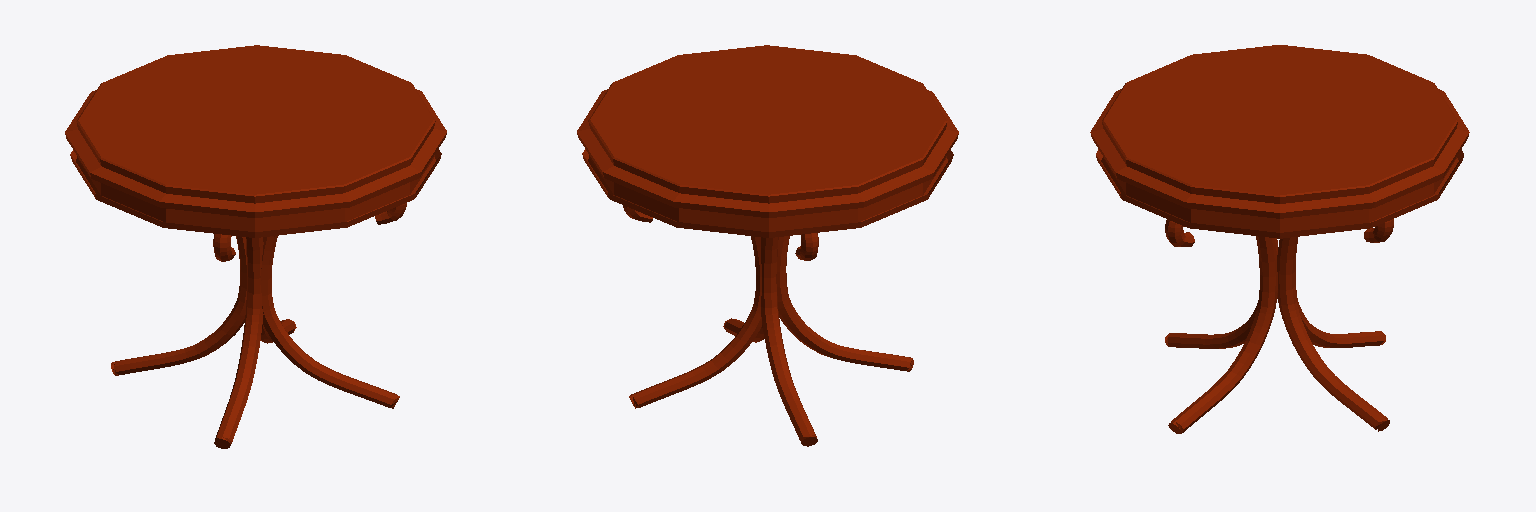
File: roundTable.obj
3 renders of one model, left to right at view 1: azimuth 30°, elevation 25°; view 2: azimuth 150°, elevation 25°; view 3: azimuth 270°, elevation 25°, orthographic.
Visible parts, largest first — view 1: PolyMesh_1, Tube_5, Tube_5_2, Tube_5_1; view 2: PolyMesh_1, Tube_5_1, Tube_5_3, Tube_5; view 3: PolyMesh_1, Tube_5_2, Tube_5_3, Tube_5, Tube_5_1.
Boxes of the visible parts, <box> form: PolyMesh_1: <box>65,45,446,237</box>; Tube_5: <box>213,234,263,448</box>; Tube_5_2: <box>261,203,406,408</box>; Tube_5_1: <box>111,236,246,375</box>; PolyMesh_1: <box>577,45,958,237</box>; Tube_5_1: <box>761,233,818,446</box>; Tube_5_3: <box>623,205,761,408</box>; Tube_5: <box>777,236,913,371</box>; PolyMesh_1: <box>1090,45,1469,238</box>; Tube_5_2: <box>1165,219,1277,433</box>; Tube_5_3: <box>1277,219,1393,431</box>; Tube_5: <box>1165,238,1277,348</box>; Tube_5_1: <box>1295,242,1385,347</box>.
Bounding box in the file's own units: 3.15 × 2.46 × 3.12.